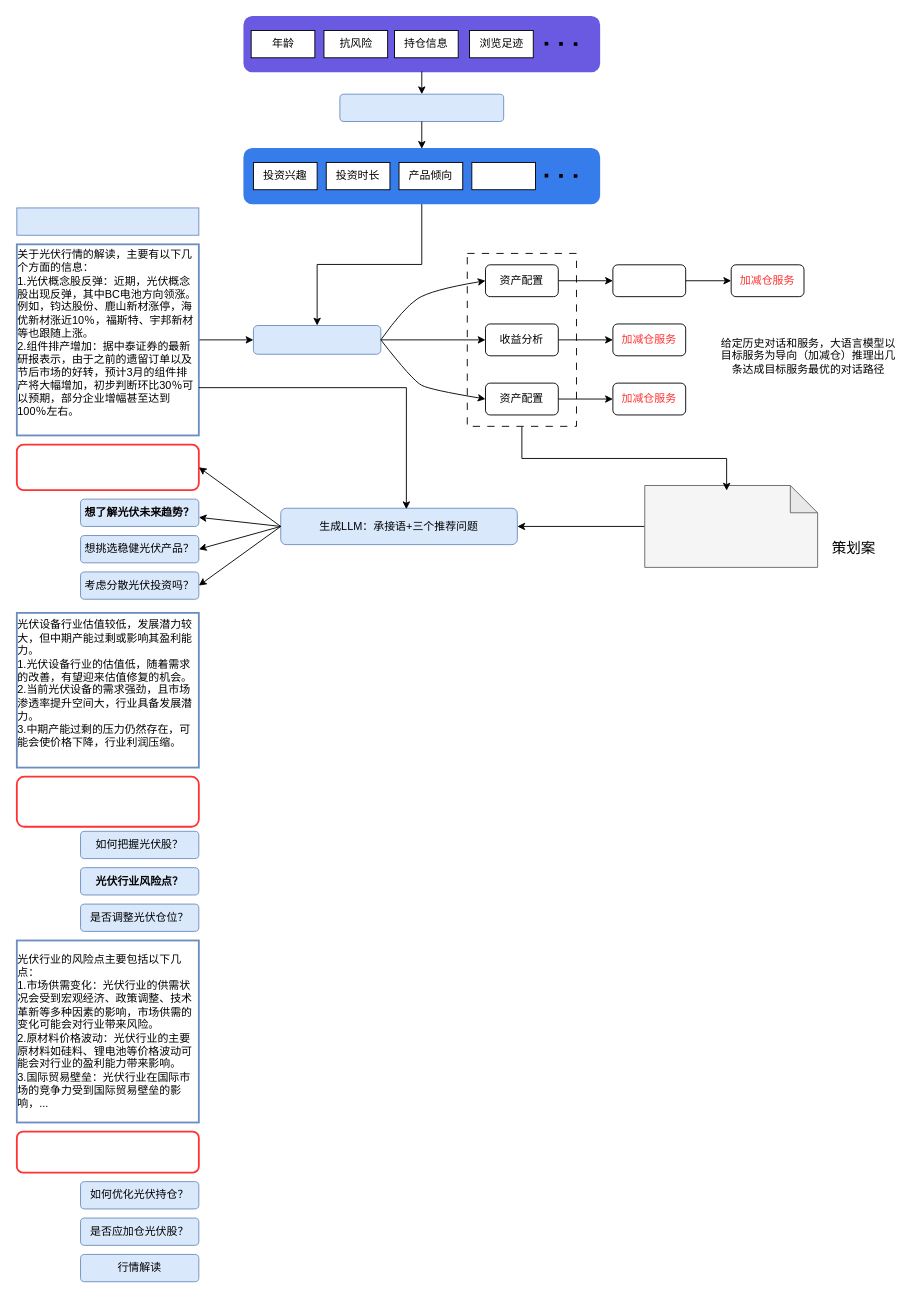
This 915x1298 diagram has some shape labels left out. Here are the shapes that lost their labels. From the top down, the centre of each, then its label:
(x=421, y=107): 画像Agent-LLM
(x=503, y=176): 收益预期
(x=107, y=221): 光伏大涨
(x=649, y=280): 基金经理评测
(x=317, y=339): 策划Agent-LLM
(x=107, y=466): 看来光伏行情的大涨引起了您的注意，是否想进一步了解光伏的趋势并进行相关产品的投资呢？
(x=731, y=526): 行情解读到资产配置转移： 介绍光伏相关的稳健产品... 行情解读到收益分析转移： 分析用户收益并给出调整建议
(x=107, y=801): 光伏行业正处于上升趋势，您是否想进一步把握光伏行业的优质产品，了解行业风险并进行投资调整呢？
(x=107, y=1151): 您已了解光伏行业的发展趋势和风险，让我们把握当前光伏的机会吧？
